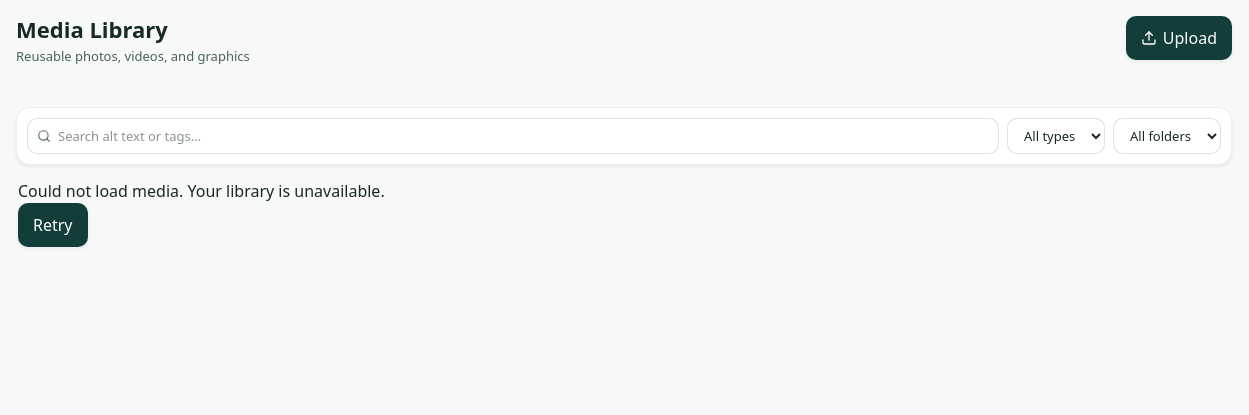
API failure is an error with retry, not an empty library
Expected: the message shows "Could not load media", [18,180,385,202]
Click the button "Retry": coordinates (53, 225) [18,203,88,247]
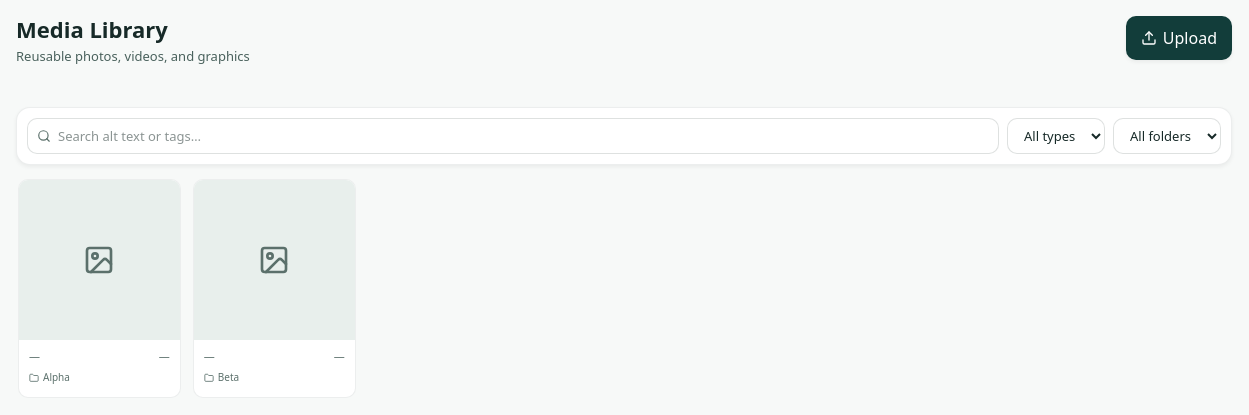
Now the message "Could not load media. Your library is unavailable. Retry" is gone
